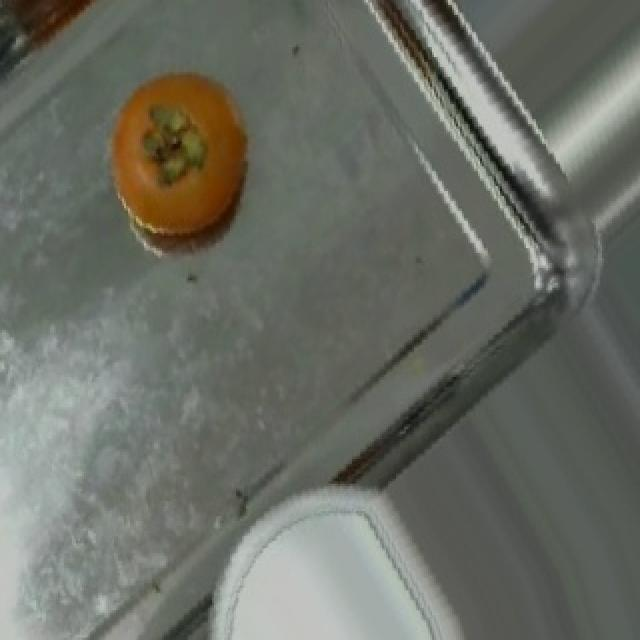Fruit: (204, 483, 452, 640), (86, 50, 272, 258), (2, 0, 140, 67)
